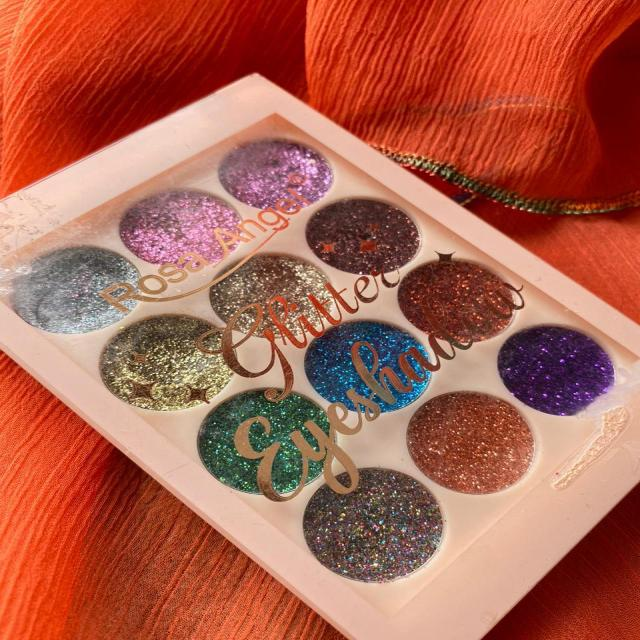eye shade: (0, 74, 591, 616)
